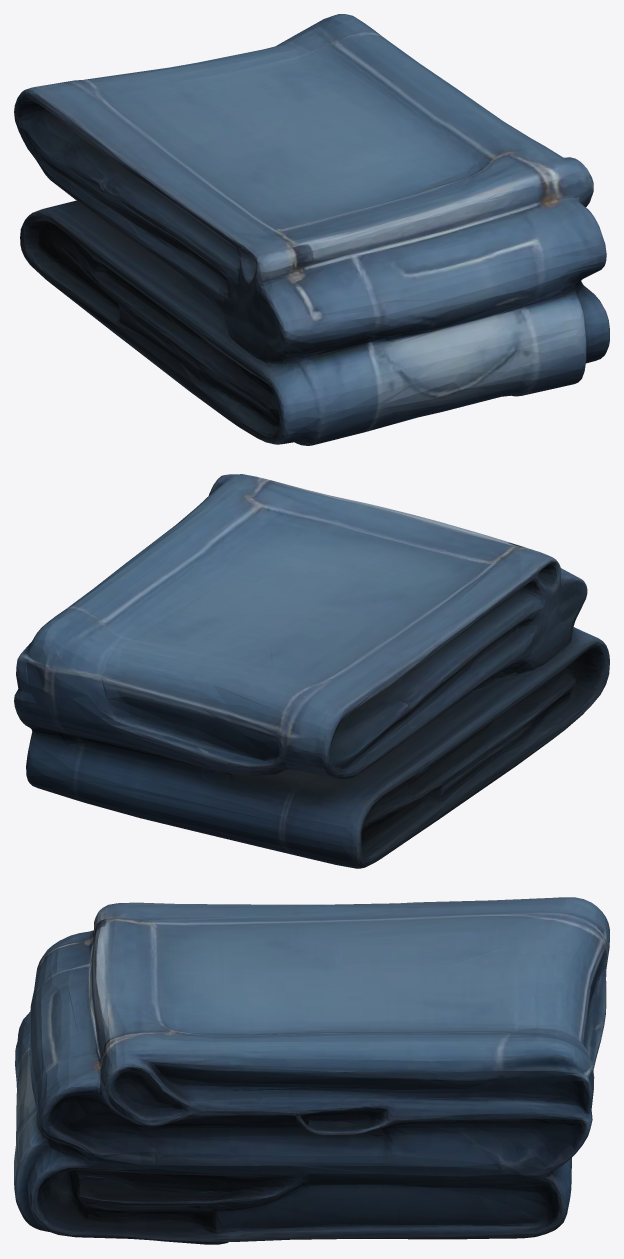
Rendered from gloves_black.glb.
The picture shows the model from 3 angles, top to bottom: view 1: azimuth 30°, elevation 25°; view 2: azimuth 150°, elevation 25°; view 3: azimuth 270°, elevation 25°; orthographic projection. The views are drawn at different scales.
Visible parts, largest first — view 1: geometry_0; view 2: geometry_0; view 3: geometry_0.
Boxes of the visible parts, x1,y1,x2,y2 form: geometry_0: (14,14,609,445); geometry_0: (14,474,609,868); geometry_0: (14,897,609,1244).
Size of the model in its own units: 0.725 by 0.3946 by 0.9981.
Materials: 1 (1 with a texture image).
